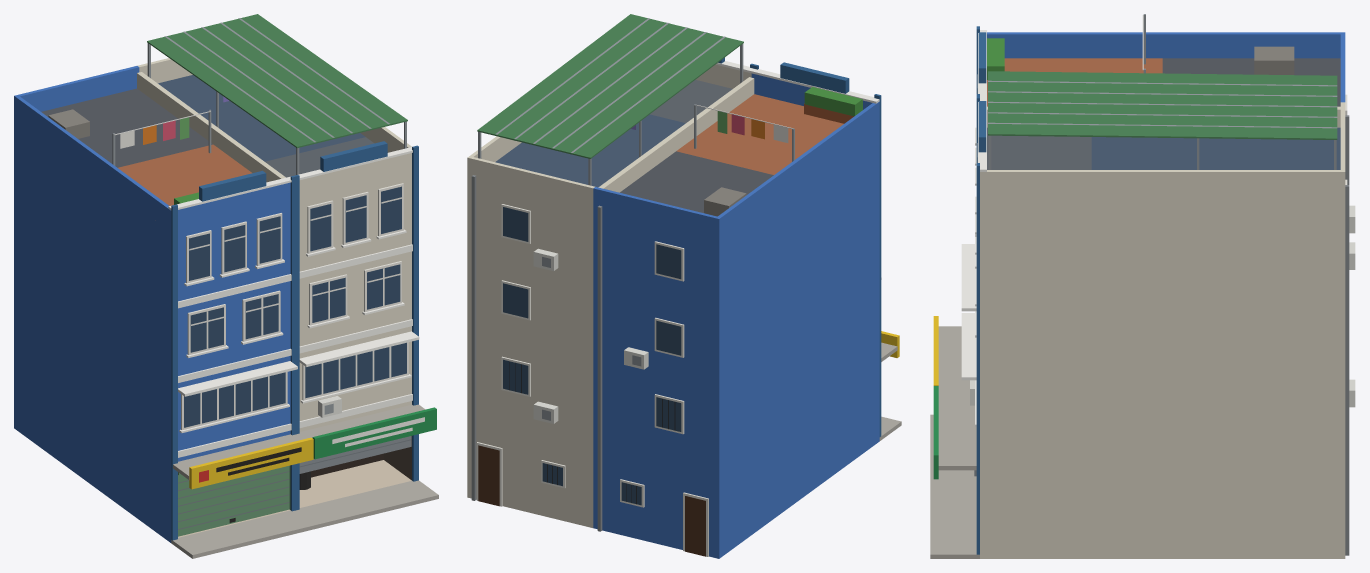
The model's file is ruko_05.glb.
3 renders of one model, left to right at view 1: azimuth 30°, elevation 25°; view 2: azimuth 150°, elevation 25°; view 3: azimuth 270°, elevation 25°, orthographic. The views are drawn at different scales.
Visible parts, largest first — view 1: ruko_05; view 2: ruko_05; view 3: ruko_05.
Boxes of the visible parts, x1,y1,x2,y2 form: ruko_05: (14,14,438,558); ruko_05: (467,14,901,558); ruko_05: (930,14,1355,558).
Size of the model in its own units: 10 by 14.06 by 12.86.
